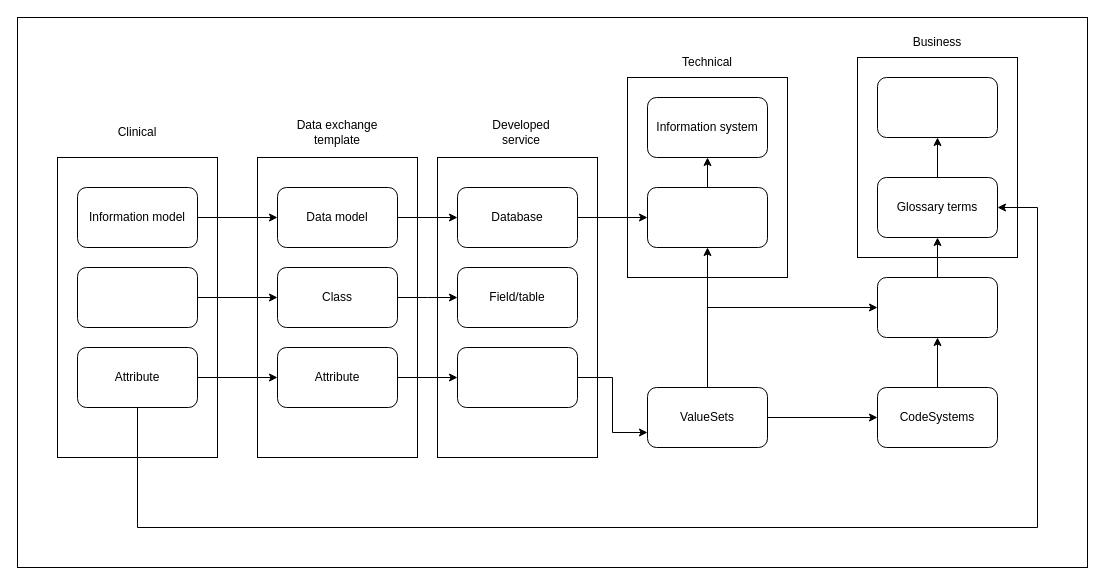
Image size: 1105x585. Some labels were removed from this diagram. The centre of each missing label's shape, as x and y in pixels:
"Business glossary" belongs at (937,107).
"Entity" belongs at (137,297).
"Field/column" belongs at (517,377).
"Module" belongs at (707,217).
"Terminology" belongs at (937,307).
